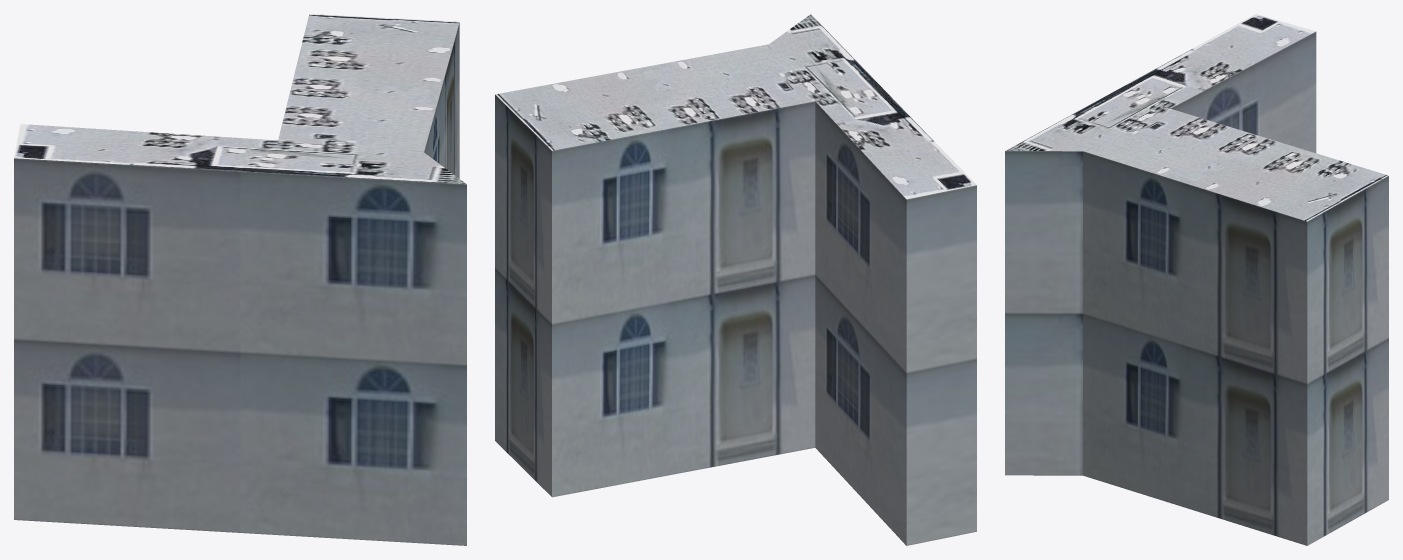
File: ResTex__3684.fbx
3 views of the same model, side by side, from view 1: azimuth 30°, elevation 25°; view 2: azimuth 150°, elevation 25°; view 3: azimuth 270°, elevation 25° (orthographic). The views are drawn at different scales.
Parts seen in each view (by area): view 1: CityEngineMaterial_17_m, CityEngineMaterial_m; view 2: CityEngineMaterial_17_m, CityEngineMaterial_m; view 3: CityEngineMaterial_17_m, CityEngineMaterial_m.
Part boxes in pixels (left/top/right/bottom): CityEngineMaterial_17_m: left=14, top=23, right=466, bottom=545; CityEngineMaterial_m: left=14, top=14, right=466, bottom=184; CityEngineMaterial_17_m: left=495, top=94, right=976, bottom=545; CityEngineMaterial_m: left=495, top=14, right=976, bottom=199; CityEngineMaterial_17_m: left=1005, top=31, right=1388, bottom=545; CityEngineMaterial_m: left=1005, top=14, right=1388, bottom=221.
Bounding box in the file's own units: 8.23 × 6 × 6.43.
Materials: 2 (2 with a texture image).
